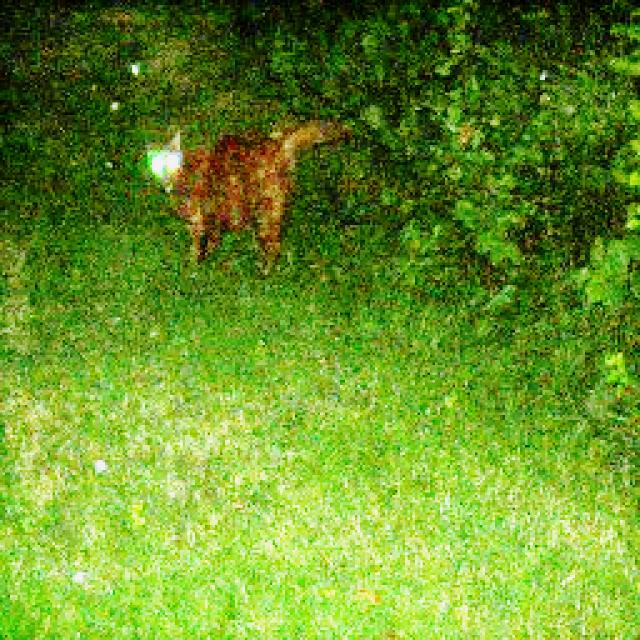cat: (138, 123, 346, 276)
